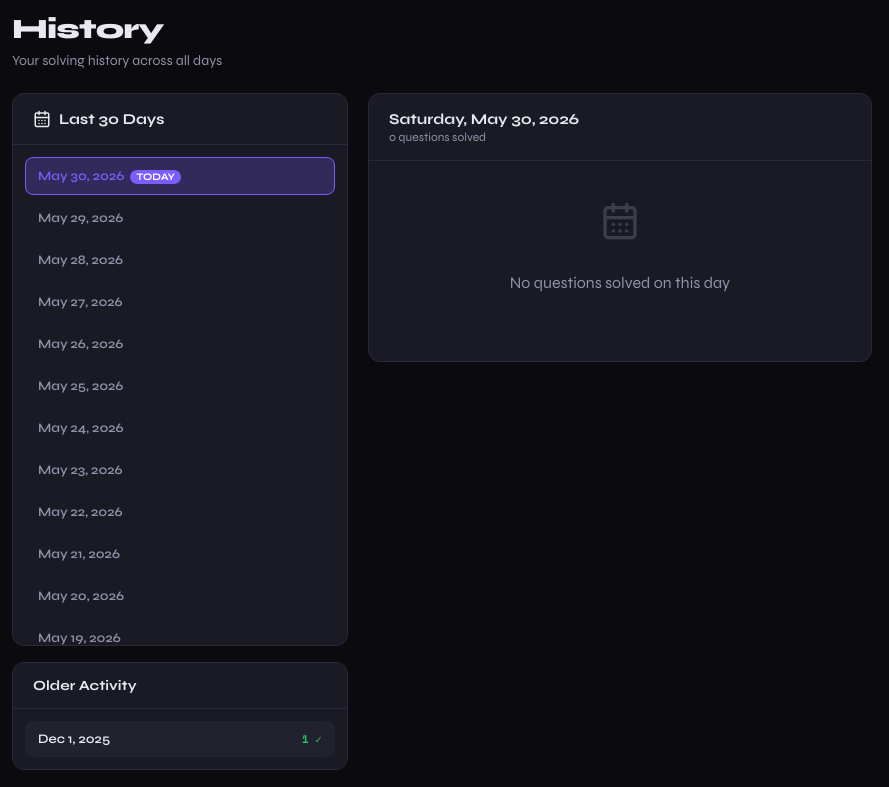
Test: HistoryPage › shows older activity section for dates beyond 30 days
Expected: the text "Older Activity" is shown, [13,663,347,709]
Click the button "Dec 1, 2025 1 ✓".
click(74, 739)  # box [25,721,335,757]
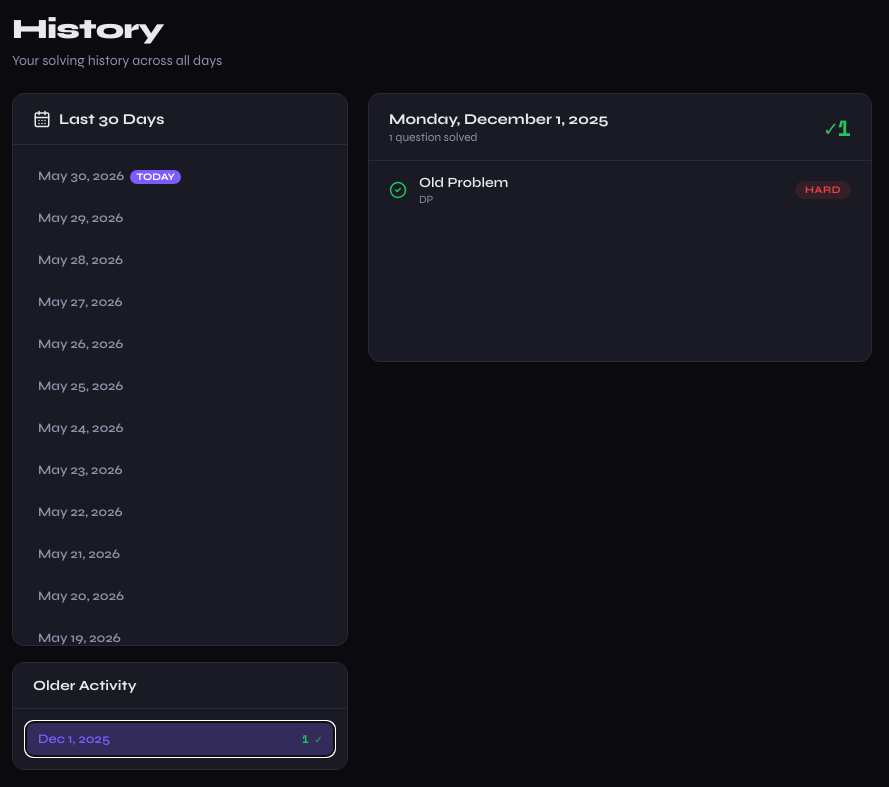
Now the text "Old Problem" is shown, box [419,174,508,191]
